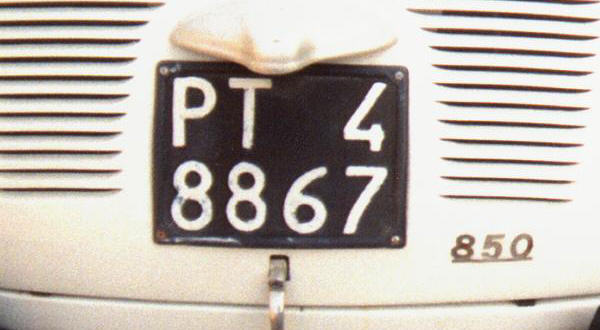license_plate: (151, 61, 408, 249)
